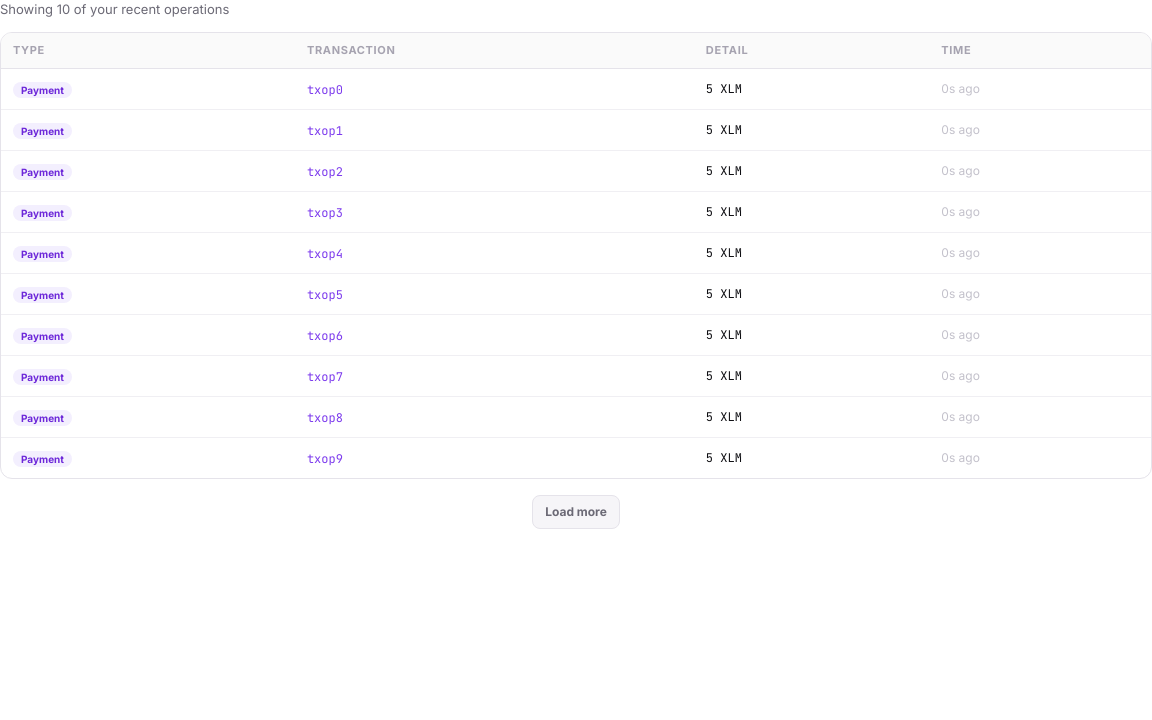
Test: AccountOperationList › offers a retry when a page fails to load
Click the button "Load more" at coordinates (576, 512), box 532,495 -> 620,529
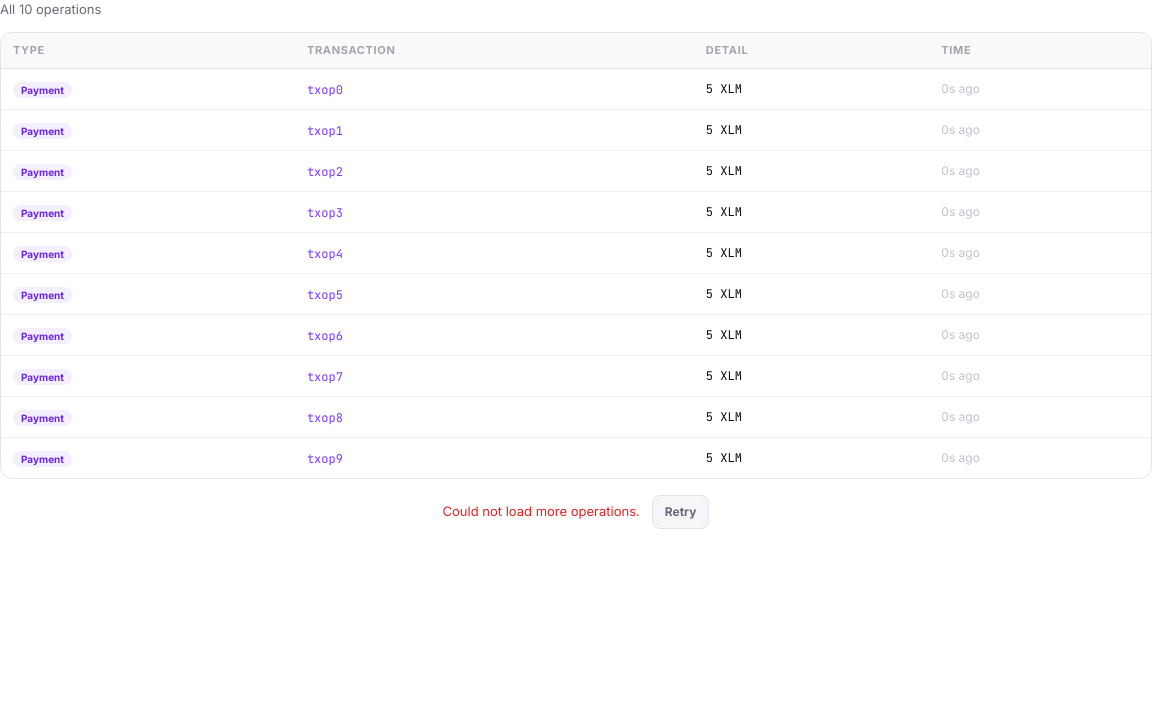
Result: the text "Could not load more operations." is shown at 443,502 -> 640,522
Click the button "Retry" at coordinates (681, 512), box 652,495 -> 709,529
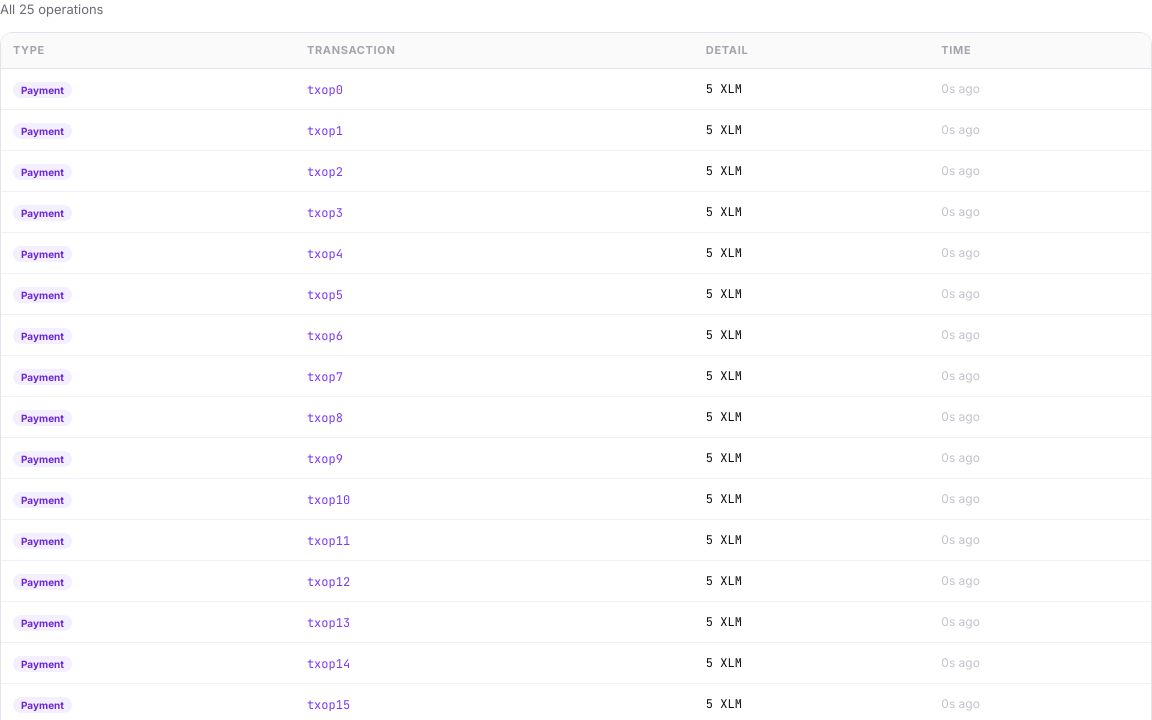
Result: the text with test id "operation-count" reads "All 25 operations" at 0,1 -> 104,17
